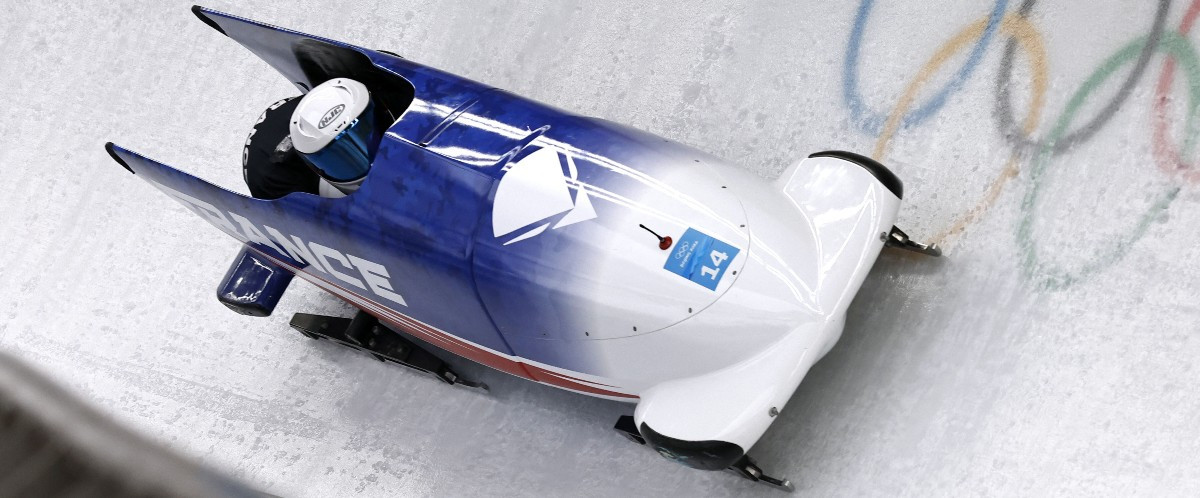Bobsleigh: (104, 7, 905, 472)
